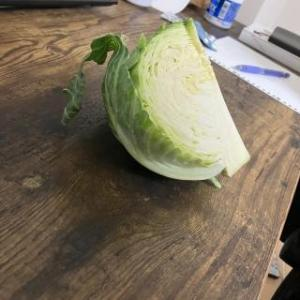cabbage: (58, 15, 254, 189)
